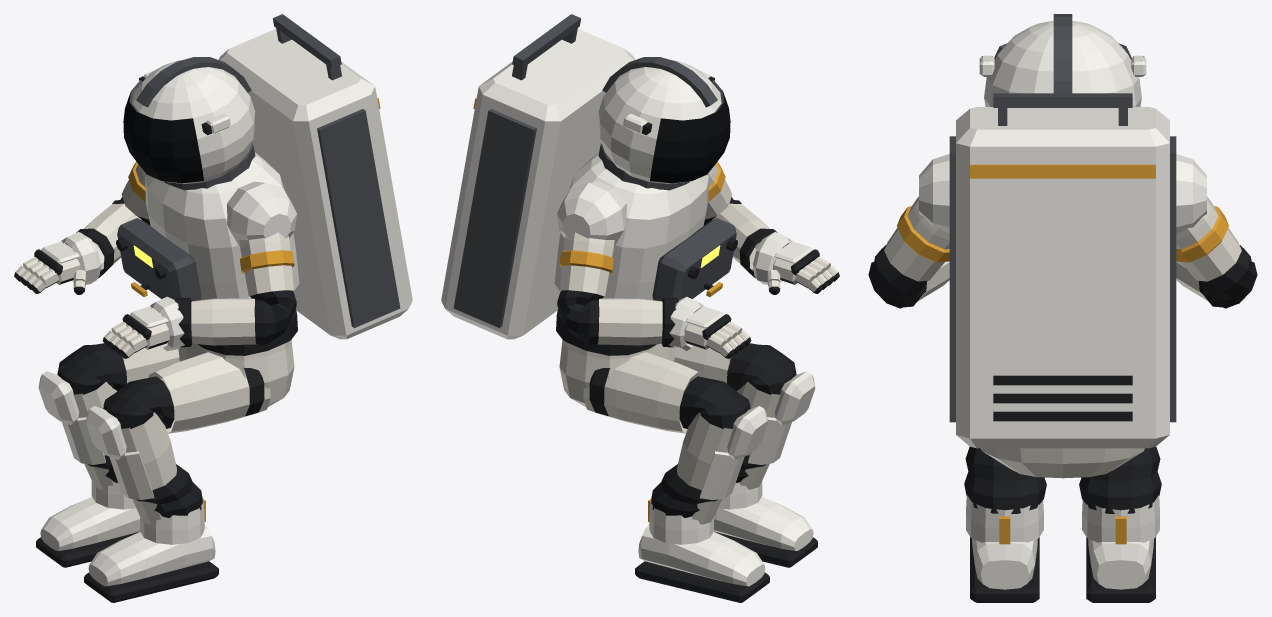
The model's file is astronaut_seated.glb.
The picture shows the model from 3 angles, left to right: view 1: azimuth 30°, elevation 25°; view 2: azimuth 150°, elevation 25°; view 3: azimuth 270°, elevation 25°; orthographic projection. The views are drawn at different scales.
Parts seen in each view (by area): view 1: astronaut_seated; view 2: astronaut_seated; view 3: astronaut_seated.
Boxes of the visible parts, box(x1,y1,x2,y2) form: astronaut_seated: box(14, 14, 412, 602); astronaut_seated: box(441, 14, 839, 602); astronaut_seated: box(868, 14, 1257, 602).
Bounding box in the file's own units: 0.92 × 1.4 × 0.8374.
